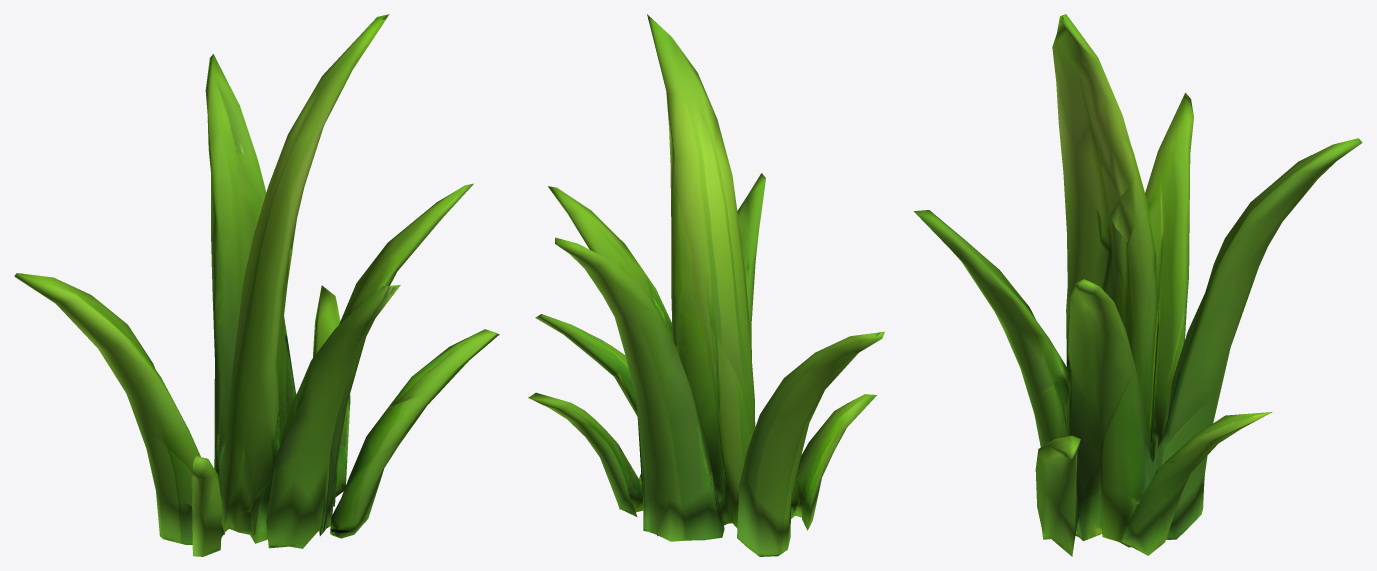
The model's file is Meshy_AI_Grass_Blades_0119124534_texture.fbx.
The picture shows the model from 3 angles, left to right: view 1: azimuth 30°, elevation 25°; view 2: azimuth 150°, elevation 25°; view 3: azimuth 270°, elevation 25°; orthographic projection. The views are drawn at different scales.
Visible parts, largest first — view 1: Mesh1; view 2: Mesh1; view 3: Mesh1.
Boxes of the visible parts, left/top/right/bottom form: Mesh1: left=14, top=14, right=499, bottom=556; Mesh1: left=528, top=14, right=884, bottom=556; Mesh1: left=914, top=14, right=1362, bottom=556.
Bounding box in the file's own units: 179 × 202 × 149.
1 material, 1 textured.
